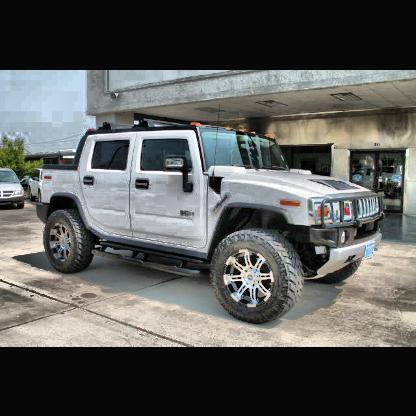HUMMER H2 SUT Crew Cab 2009: (36, 118, 383, 326)
